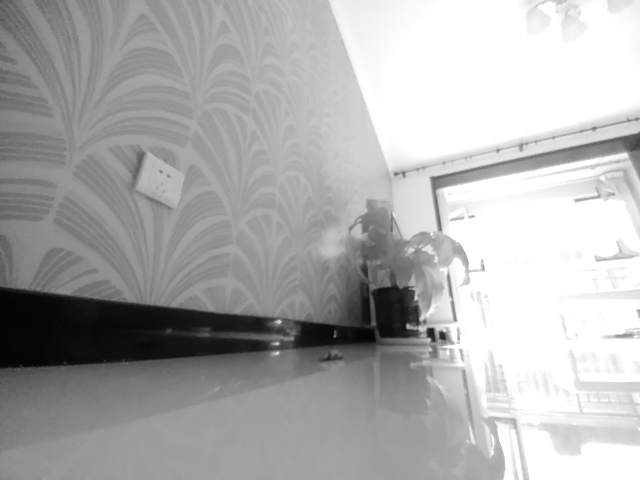pet feces: (316, 348, 343, 362)
